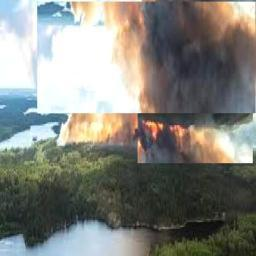Heavy smoke: (101, 0, 255, 111), (35, 1, 101, 106)
Large fire: (50, 109, 138, 157), (134, 115, 251, 147)
